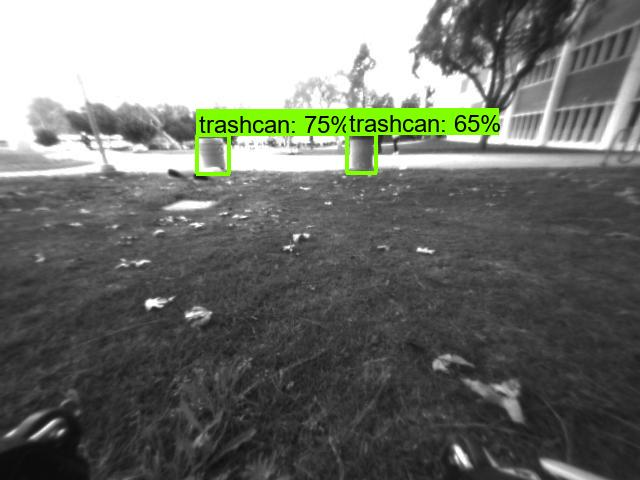trashcan: (198, 136, 232, 172), (349, 132, 371, 177)
